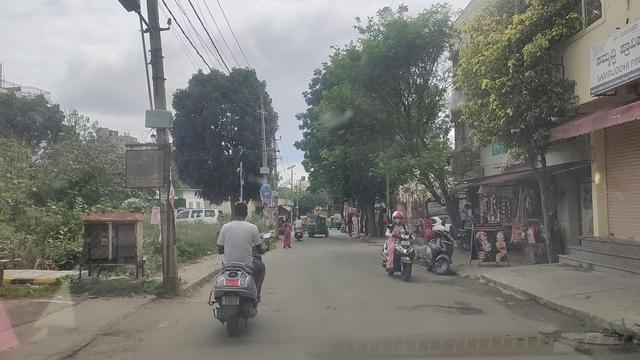LMV: (204, 202, 263, 331), (384, 209, 410, 281)
RoadDamages: (395, 299, 484, 324), (315, 299, 344, 317)
